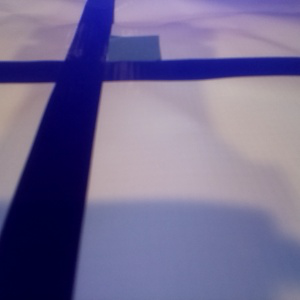top_right: (73, 35, 161, 79)
